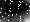person: (7, 5, 14, 18)
